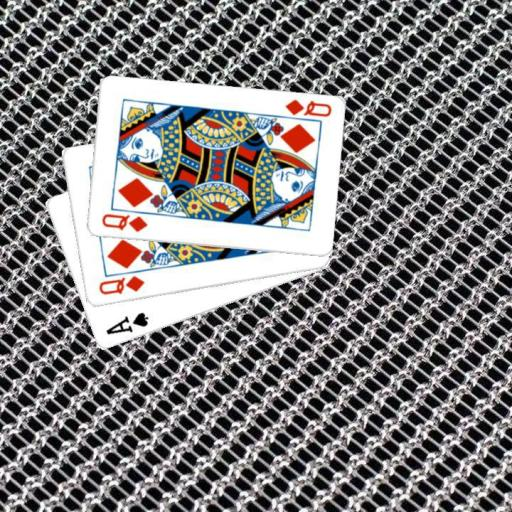AS: (102, 310, 150, 337)
QD: (95, 273, 146, 298), (98, 210, 149, 234), (282, 96, 333, 119)
